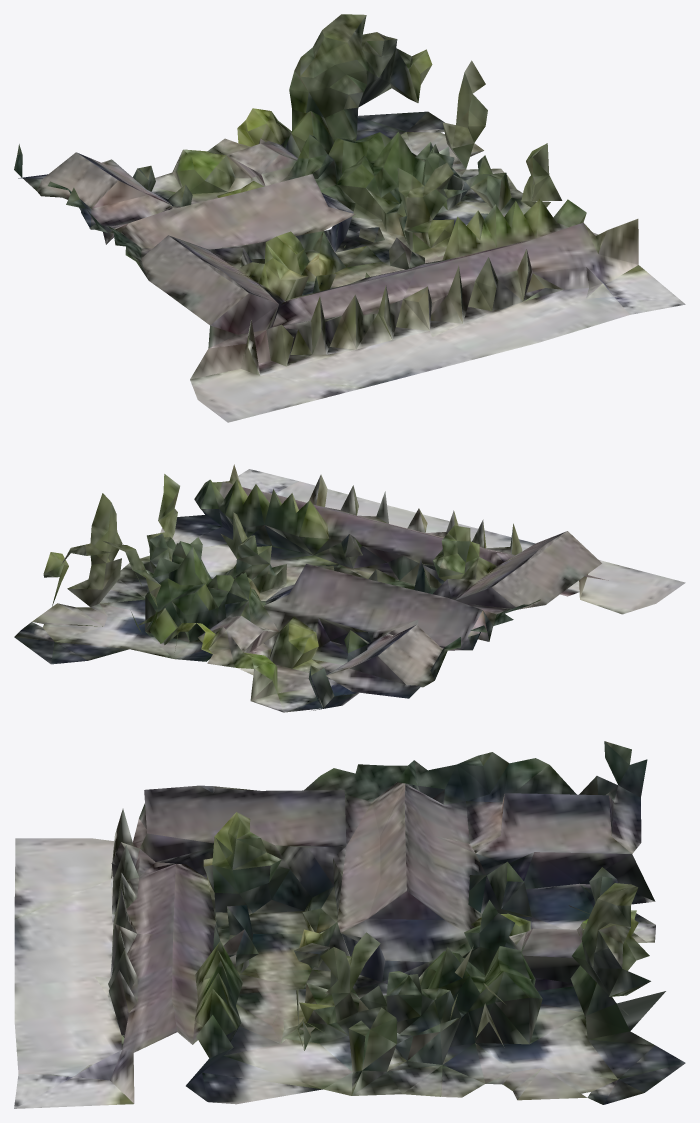
The model's file is Tile_+002_+001_L17_00.glb.
The picture shows the model from 3 angles, top to bottom: view 1: azimuth 30°, elevation 25°; view 2: azimuth 150°, elevation 25°; view 3: azimuth 270°, elevation 25°; orthographic projection. The views are drawn at different scales.
Parts seen in each view (by area): view 1: rtc; view 2: rtc; view 3: rtc.
Part boxes in pixels (<box>): rtc: <box>14,14,685,422</box>; rtc: <box>14,464,685,712</box>; rtc: <box>14,741,685,1108</box>.
Size of the model in its own units: 60.23 by 17.26 by 60.96.
1 material, 1 textured.
